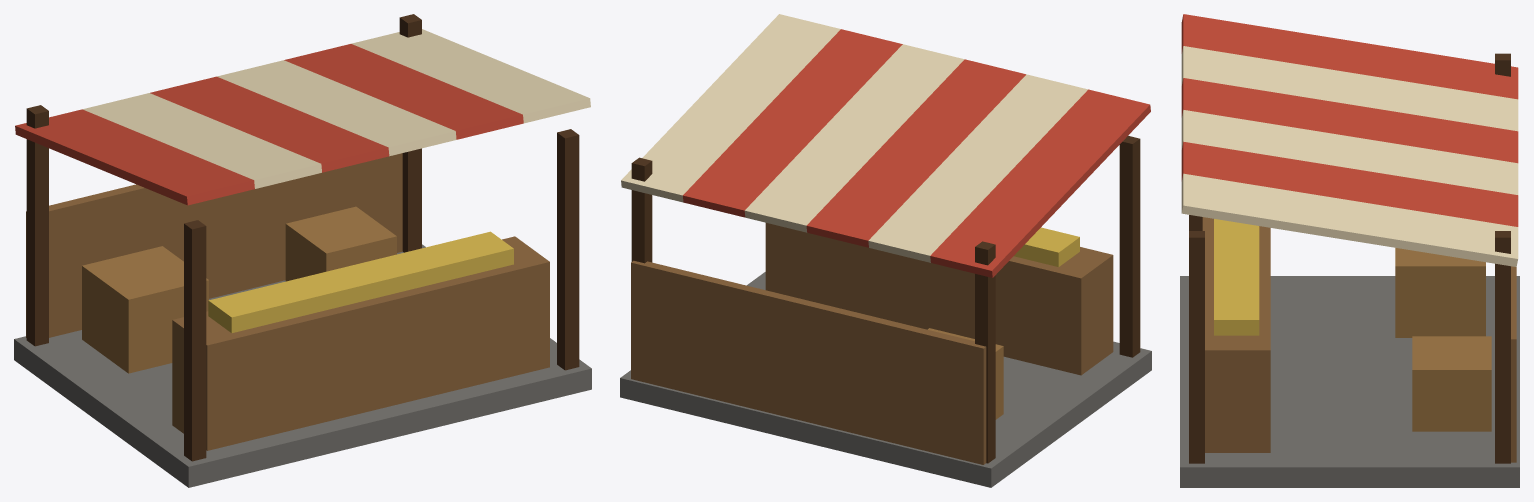
The model's file is market.glb.
The picture shows the model from 3 angles, left to right: view 1: azimuth 30°, elevation 25°; view 2: azimuth 150°, elevation 25°; view 3: azimuth 270°, elevation 25°; orthographic projection. The views are drawn at different scales.
Parts seen in each view (by area): view 1: market; view 2: market; view 3: market.
Part boxes in pixels (x1,y1,x2,y2): market: (14,14,591,487); market: (620,14,1151,487); market: (1180,14,1519,487).
Size of the model in its own units: 4 by 2.75 by 3.
